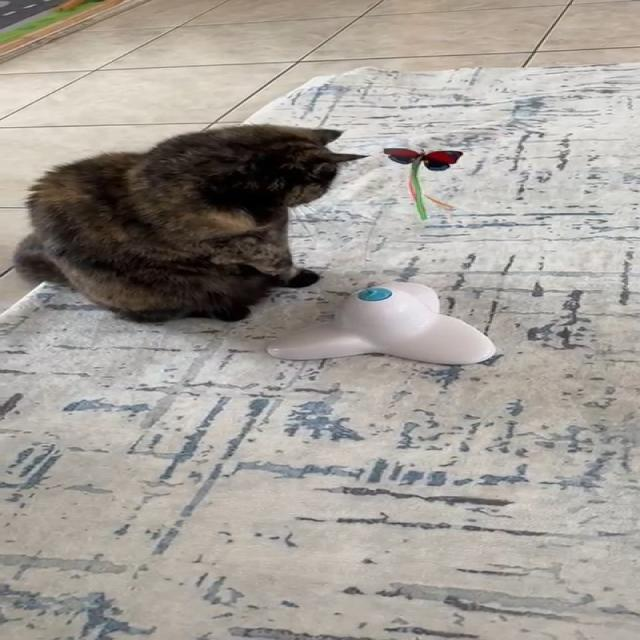authorized: (12, 122, 369, 323)
